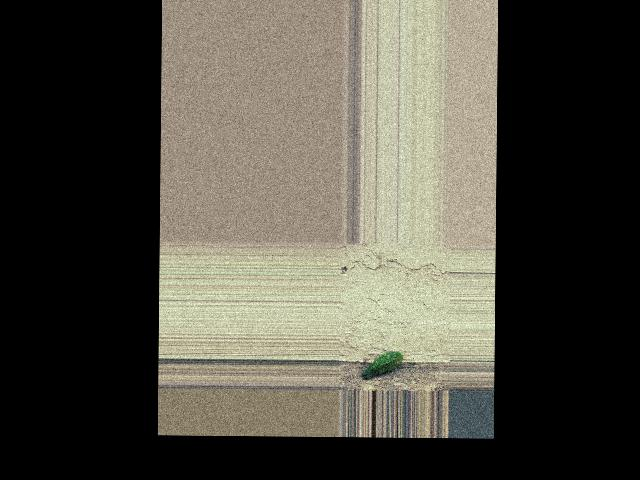cucumber: (362, 350, 403, 379)
